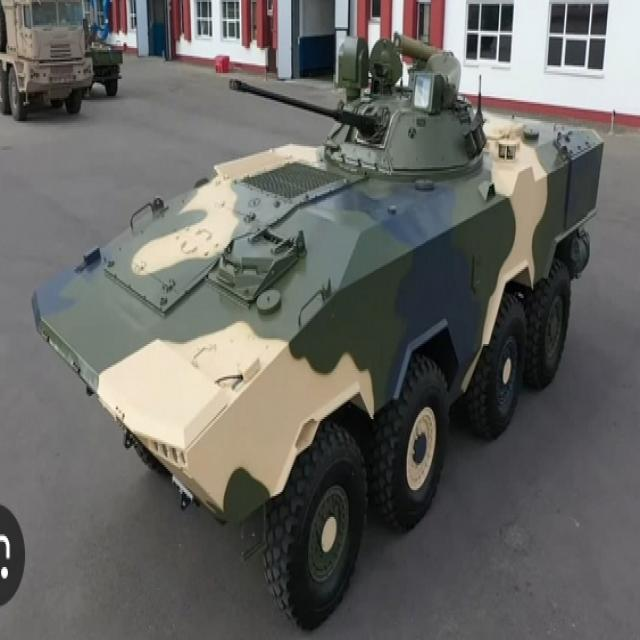MIL_APC: (46, 52, 614, 615)
